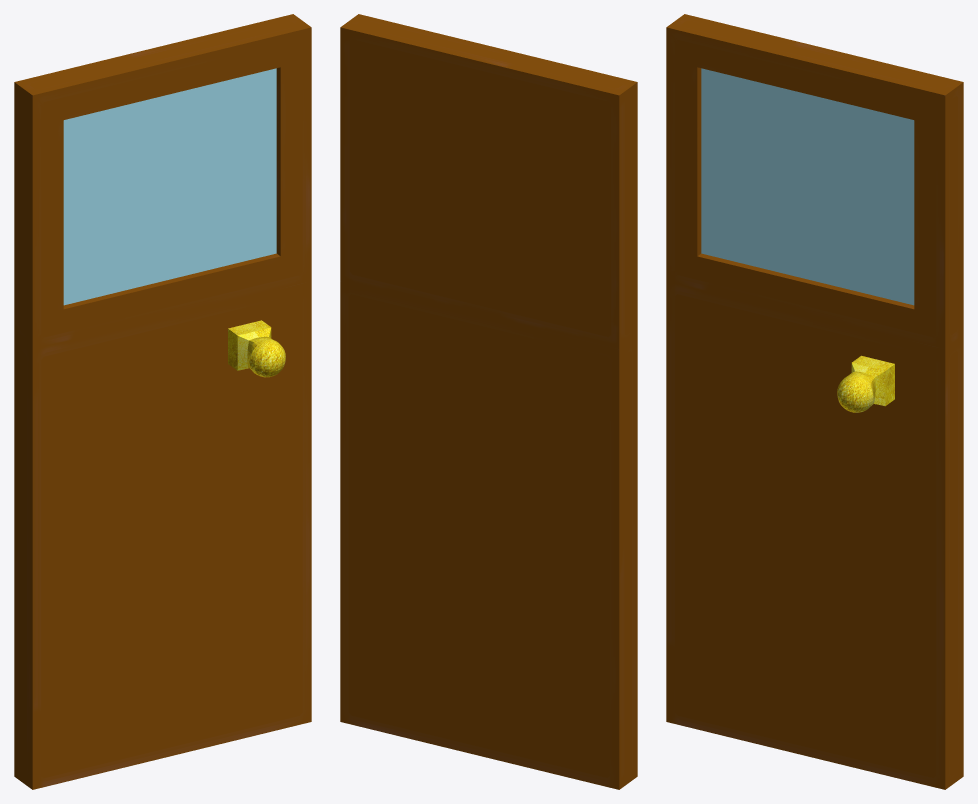
File: JBayer_Door.fbx
3 renders of one model, left to right at view 1: azimuth 30°, elevation 25°; view 2: azimuth 150°, elevation 25°; view 3: azimuth 330°, elevation 25°, orthographic.
Visible parts, largest first — view 1: Door, Door_Knob; view 2: Door; view 3: Door, Door_Knob.
Boxes of the visible parts, bbox=[...] form: Door: bbox=[14, 14, 311, 789]; Door_Knob: bbox=[228, 320, 285, 377]; Door: bbox=[340, 14, 637, 789]; Door: bbox=[666, 14, 963, 789]; Door_Knob: bbox=[837, 355, 894, 412].
Bounding box in the file's own units: 34.52 × 265 × 111.
Materials: 2 (2 with a texture image).
